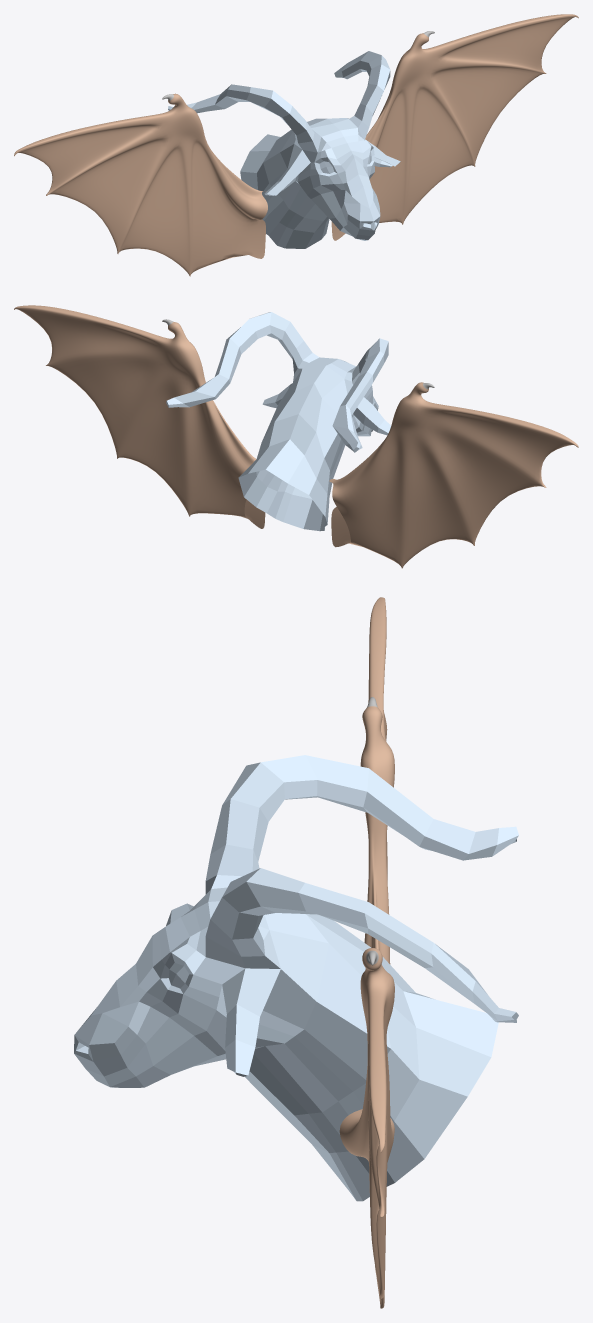
The model's file is Devil.fbx.
3 views of the same model, one above another, from view 1: azimuth 30°, elevation 25°; view 2: azimuth 150°, elevation 25°; view 3: azimuth 270°, elevation 25° (orthographic). The views are drawn at different scales.
Parts seen in each view (by area): view 1: Plane.002; view 2: Plane.002; view 3: Plane.002.
Part boxes in pixels (bbox=[...]): Plane.002: bbox=[14, 14, 578, 276]; Plane.002: bbox=[14, 305, 578, 568]; Plane.002: bbox=[74, 597, 518, 1308].
Bounding box in the file's own units: 680 × 225 × 232.
